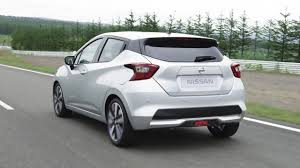Nissan: (56, 37, 231, 129)
